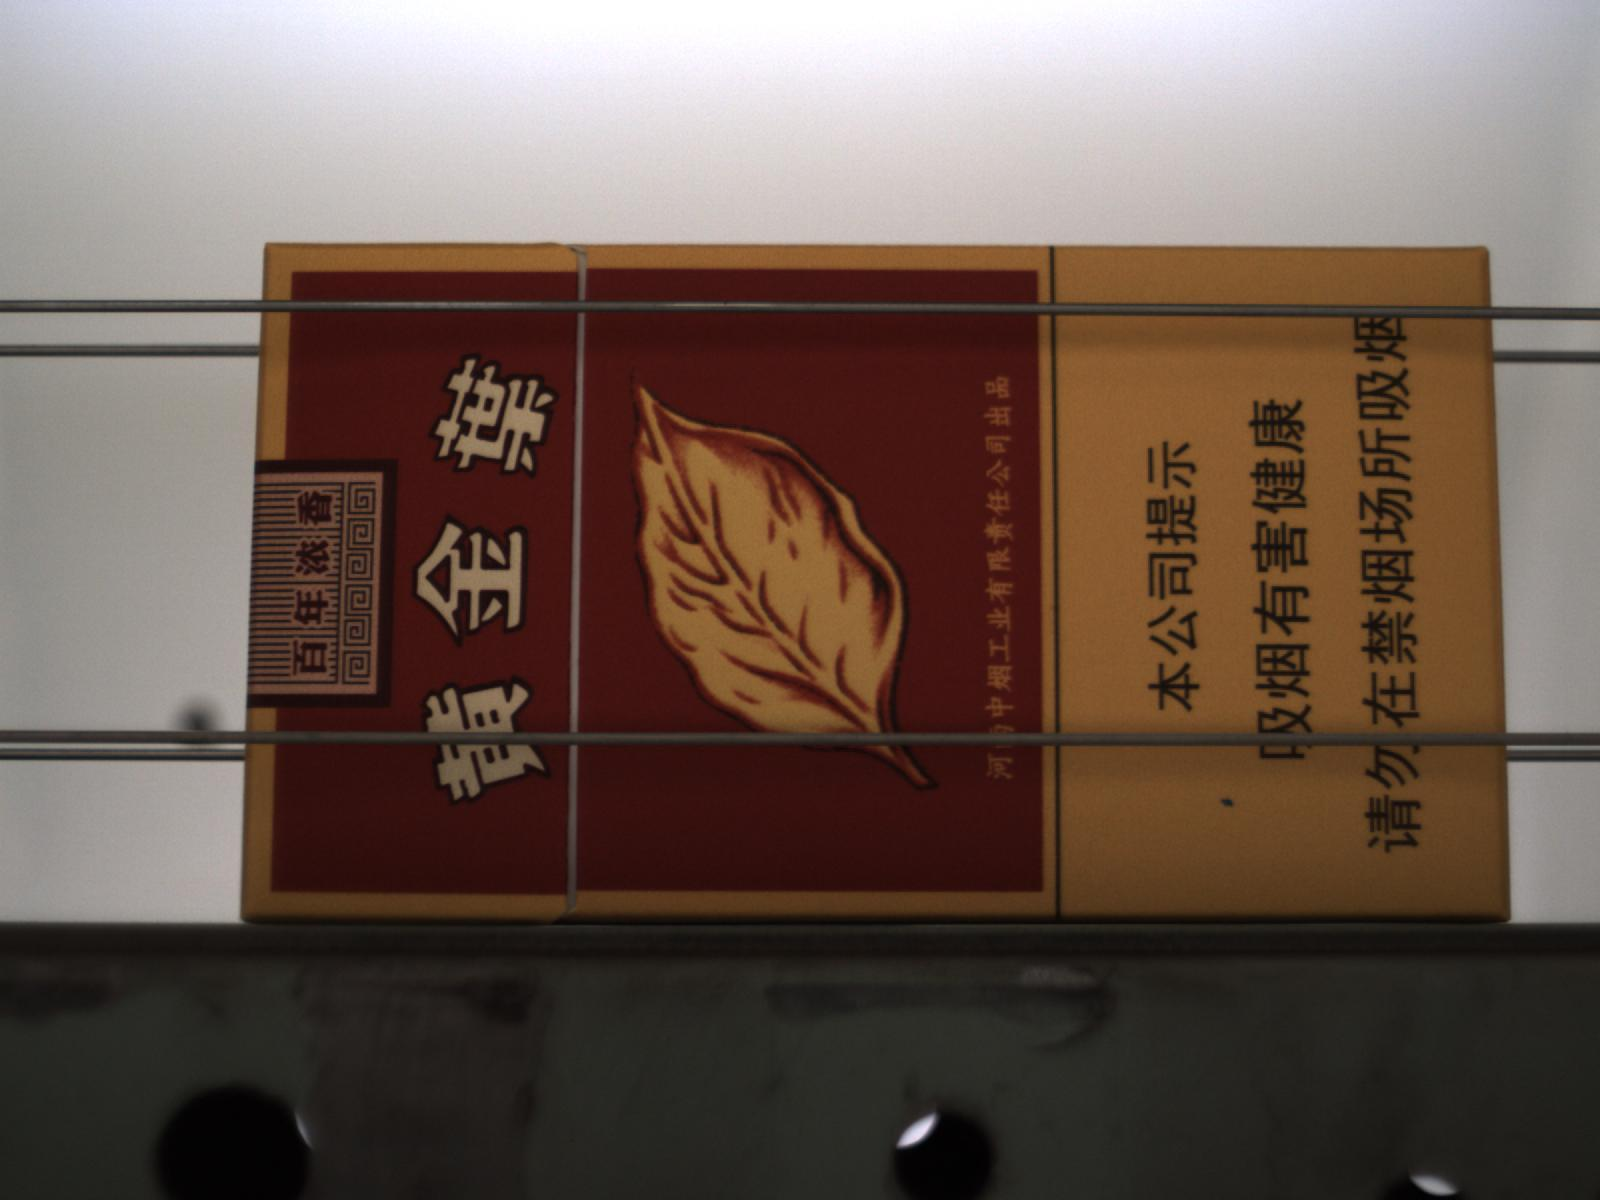dirtyOil: (1220, 795, 1236, 809)
